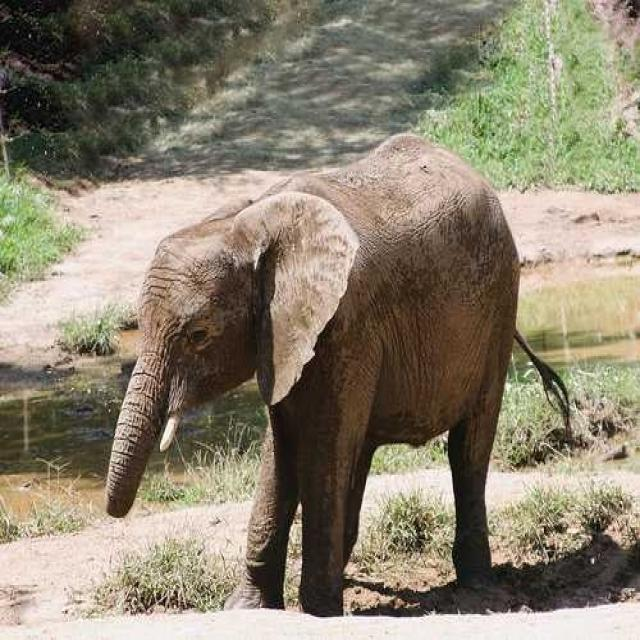Elephant: (102, 130, 559, 615)
